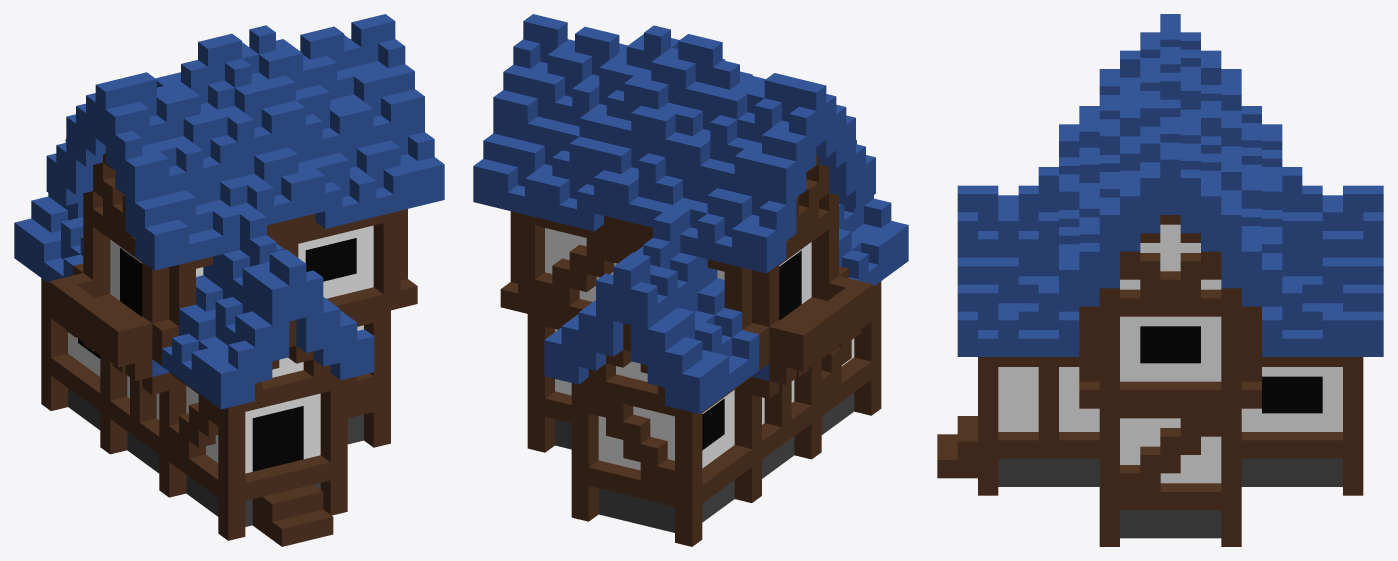
Rendered from house16.fbx.
3 renders of one model, left to right at view 1: azimuth 30°, elevation 25°; view 2: azimuth 150°, elevation 25°; view 3: azimuth 270°, elevation 25°, orthographic. The views are drawn at different scales.
Parts seen in each view (by area): view 1: house1-19; view 2: house1-19; view 3: house1-19.
Boxes of the visible parts, x1=… form: house1-19: x1=14, y1=14, x2=444, y2=546; house1-19: x1=473, y1=14, x2=908, y2=546; house1-19: x1=937, y1=14, x2=1383, y2=546.
Size of the model in its own units: 1800 by 2300 by 2200.
